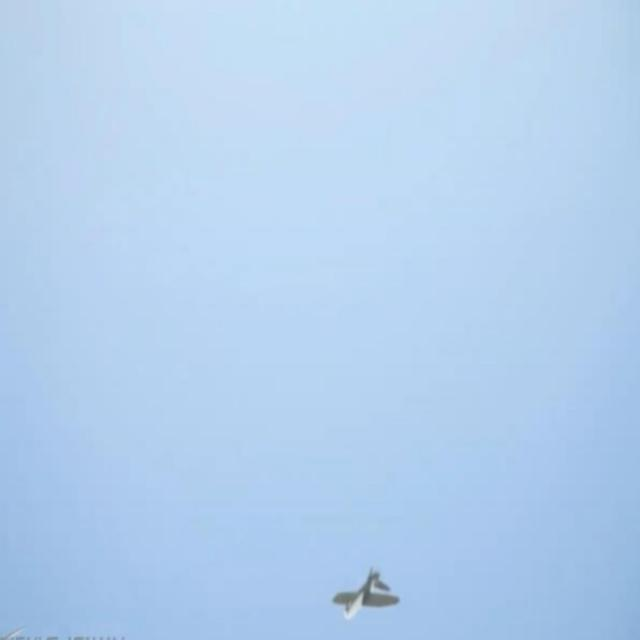plane: (332, 567, 402, 622)
